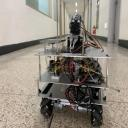cart: (34, 46, 112, 128)
